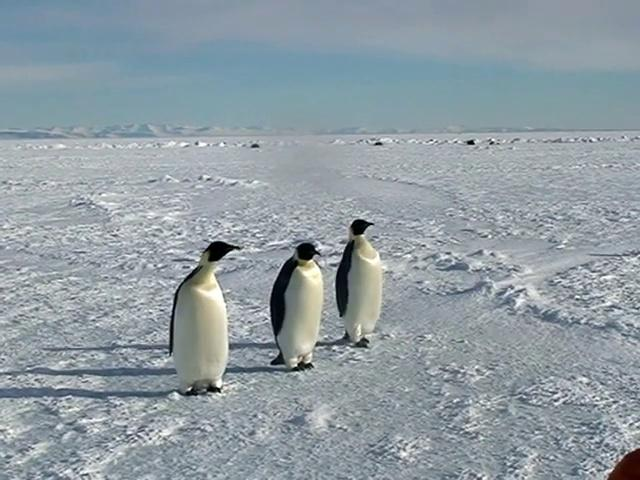animal: (337, 220, 384, 349)
